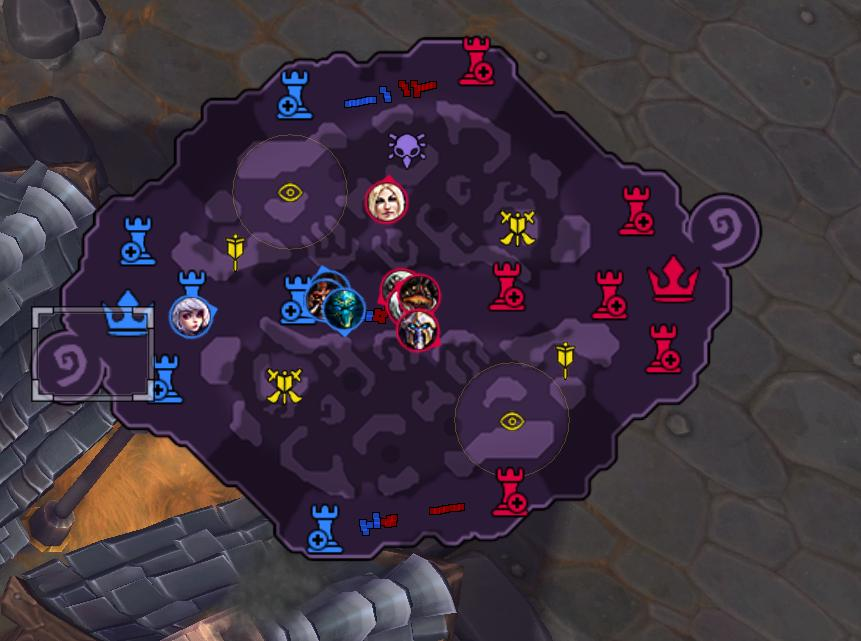blue nexus: (100, 286, 151, 336)
blue player: (300, 274, 351, 325), (169, 294, 215, 339), (321, 286, 366, 332)
blue tower: (118, 212, 162, 272), (304, 501, 348, 559), (143, 351, 188, 407), (273, 66, 317, 121)
red nexus: (645, 253, 701, 302)
red player: (376, 265, 425, 314), (364, 176, 407, 224), (395, 275, 444, 316), (396, 306, 439, 352)
red tower: (454, 30, 502, 94), (587, 266, 632, 325), (490, 466, 530, 517), (617, 184, 655, 237), (645, 322, 682, 374), (488, 261, 525, 312)
